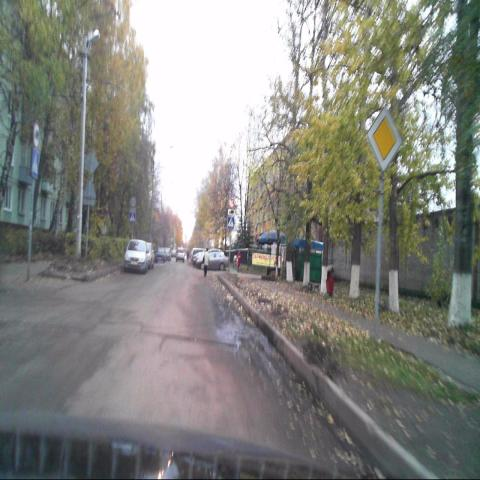2_1: (367, 108, 402, 171)
3_18_2: (229, 197, 235, 208)
5_19_1: (228, 217, 234, 228)
